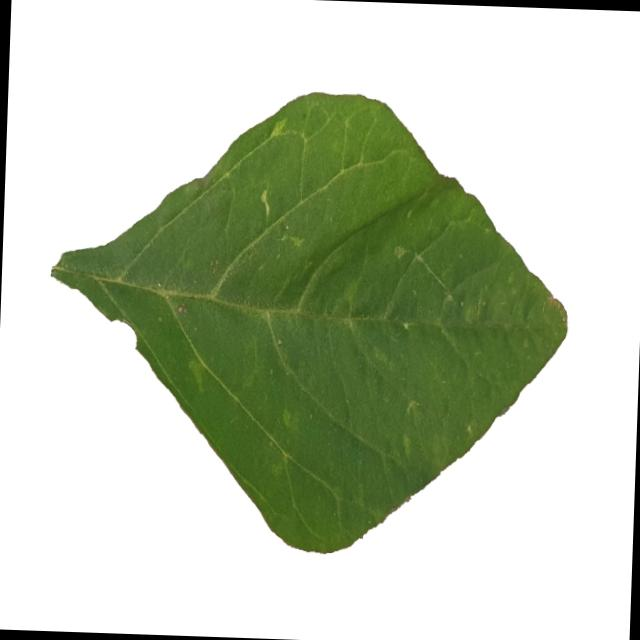Medicinal-Arive Dantu: (43, 75, 576, 564)
